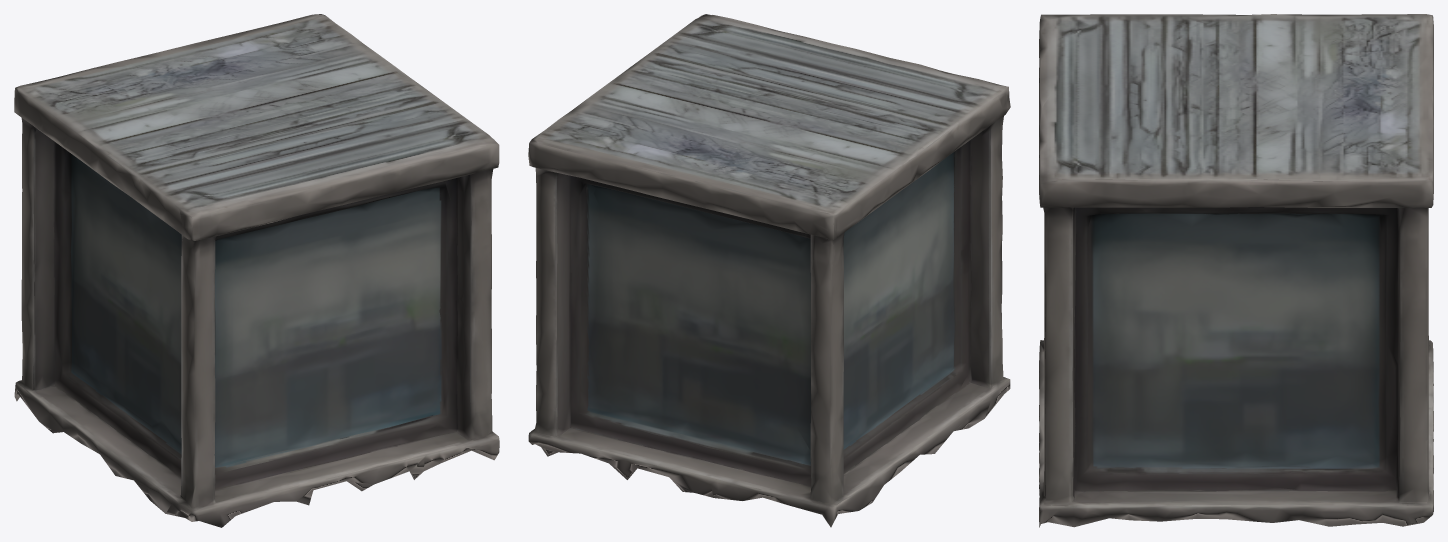
The model's file is extra_Window.glb.
The picture shows the model from 3 angles, left to right: view 1: azimuth 30°, elevation 25°; view 2: azimuth 150°, elevation 25°; view 3: azimuth 270°, elevation 25°; orthographic projection. The views are drawn at different scales.
Parts seen in each view (by area): view 1: world; view 2: world; view 3: world.
Part boxes in pixels (x1=…): world: x1=14, y1=14, x2=499, y2=527; world: x1=528, y1=14, x2=1010, y2=527; world: x1=1039, y1=14, x2=1433, y2=527.
Bounding box in the file's own units: 1 × 0.9867 × 1.
Materials: 1 (1 with a texture image).
